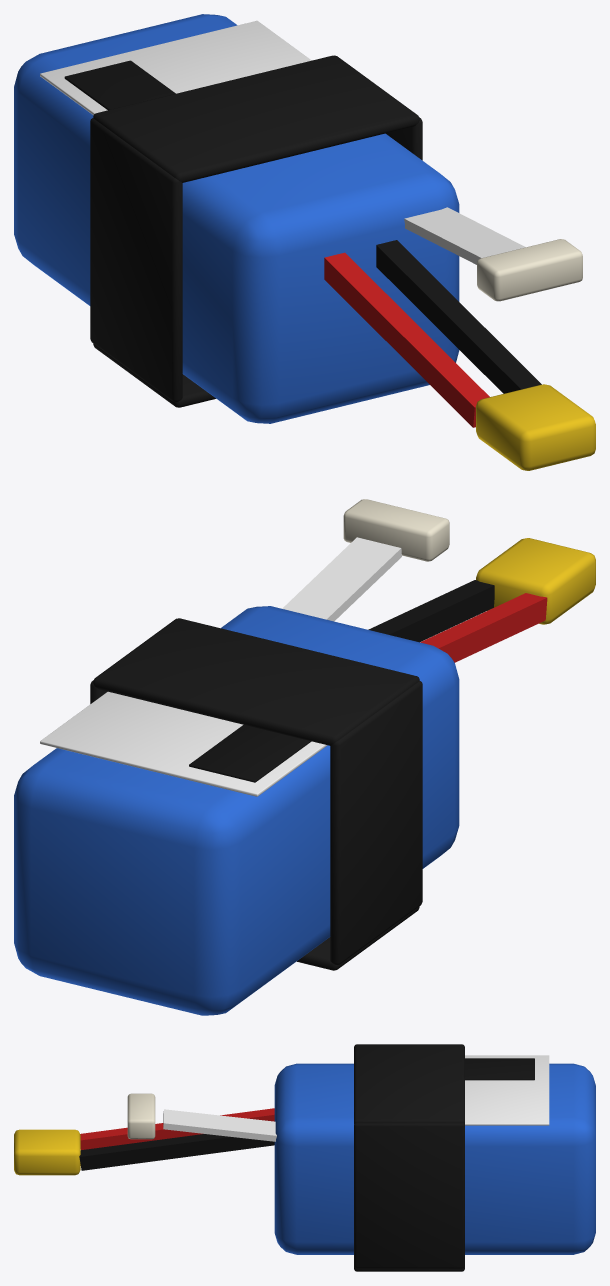
Rendered from batt_4s650.glb.
3 views of the same model, one above another, from view 1: azimuth 30°, elevation 25°; view 2: azimuth 150°, elevation 25°; view 3: azimuth 270°, elevation 25° (orthographic). The views are drawn at different scales.
Parts seen in each view (by area): view 1: batt_4s650_M_Wrap_4s650, batt_4s650_M_Strap, batt_4s650_M_Label, batt_4s650_M_WireBlack, batt_4s650_M_XT60, batt_4s650_M_WireRed, batt_4s650_M_Connector; view 2: batt_4s650_M_Wrap_4s650, batt_4s650_M_Strap, batt_4s650_M_Label, batt_4s650_M_WireBlack, batt_4s650_M_XT60, batt_4s650_M_Connector, batt_4s650_M_WireRed; view 3: batt_4s650_M_Wrap_4s650, batt_4s650_M_Strap, batt_4s650_M_Label, batt_4s650_M_WireBlack, batt_4s650_M_XT60, batt_4s650_M_WireRed, batt_4s650_M_Connector.
Boxes of the visible parts, <box> form: batt_4s650_M_Wrap_4s650: <box>14,14,459,423</box>; batt_4s650_M_Strap: <box>90,55,422,407</box>; batt_4s650_M_Label: <box>40,20,525,264</box>; batt_4s650_M_WireBlack: <box>64,60,541,393</box>; batt_4s650_M_XT60: <box>476,384,595,470</box>; batt_4s650_M_WireRed: <box>324,252,489,427</box>; batt_4s650_M_Connector: <box>477,239,582,301</box>; batt_4s650_M_Wrap_4s650: <box>14,606,459,1015</box>; batt_4s650_M_Strap: <box>90,618,422,970</box>; batt_4s650_M_Label: <box>40,537,401,796</box>; batt_4s650_M_WireBlack: <box>189,580,494,782</box>; batt_4s650_M_XT60: <box>476,538,595,624</box>; batt_4s650_M_Connector: <box>343,499,449,561</box>; batt_4s650_M_WireRed: <box>420,593,547,662</box>; batt_4s650_M_Wrap_4s650: <box>274,1063,595,1254</box>; batt_4s650_M_Strap: <box>354,1044,464,1271</box>; batt_4s650_M_Label: <box>163,1055,549,1141</box>; batt_4s650_M_WireBlack: <box>79,1058,534,1170</box>; batt_4s650_M_XT60: <box>14,1129,80,1175</box>; batt_4s650_M_WireRed: <box>80,1108,274,1149</box>; batt_4s650_M_Connector: <box>127,1093,155,1139</box>.
Size of the model in its own units: 0.0338 by 0.0303 by 0.105.
